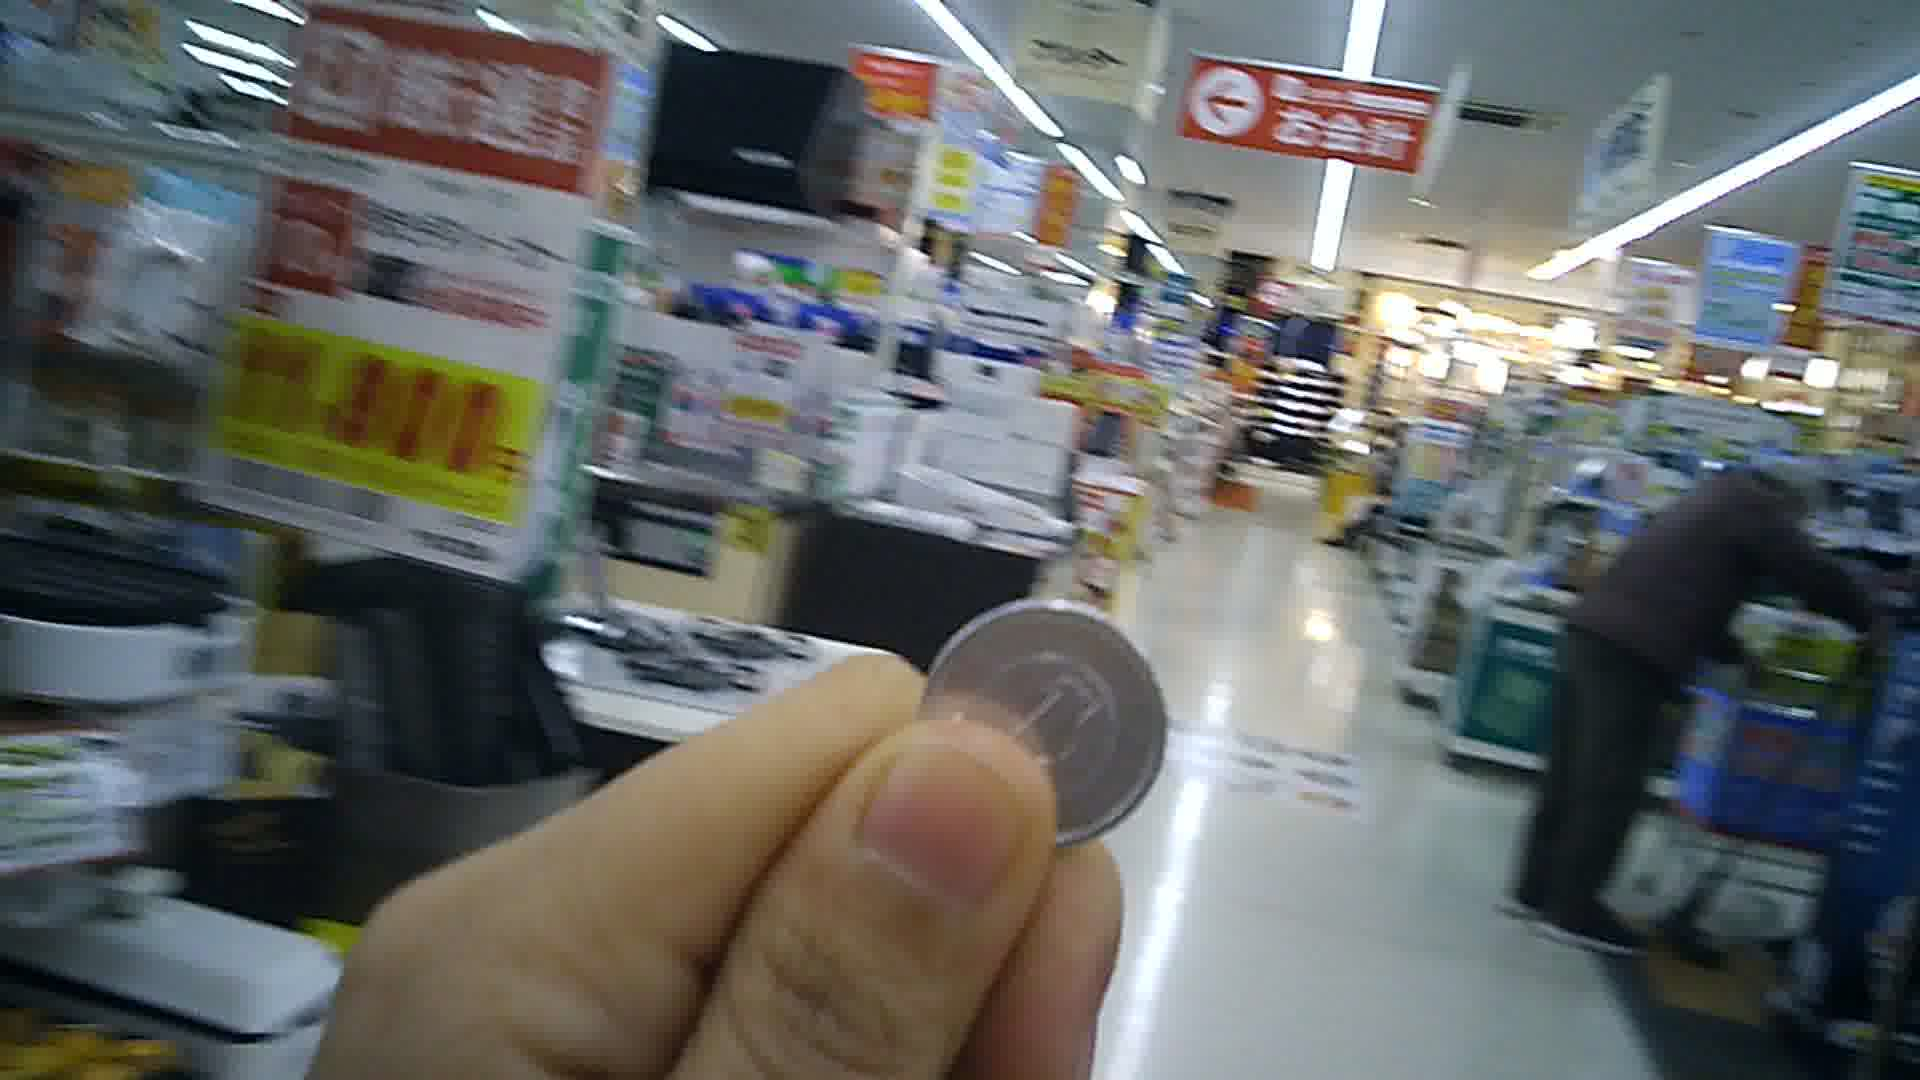1 Yen: (916, 589, 1175, 857)
